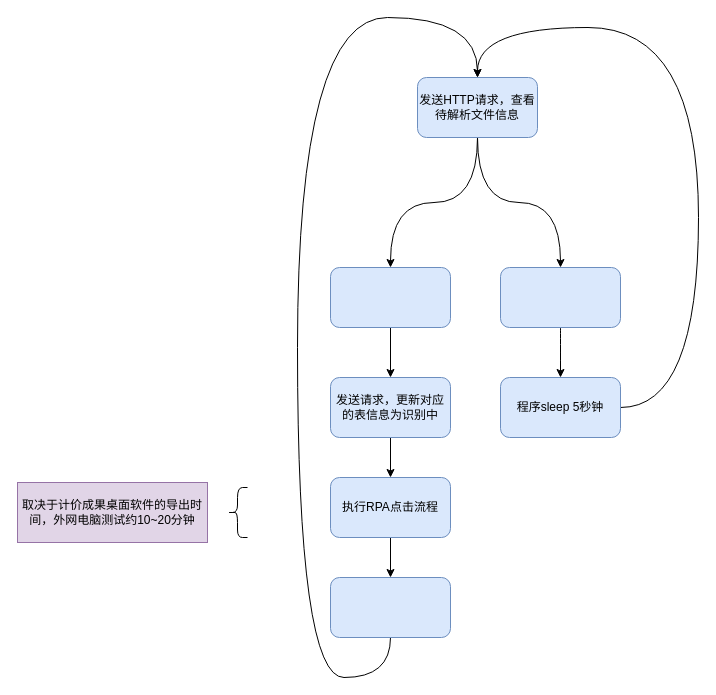
Image size: 716x695. Some labels were removed from this diagram. Each missing label, with the box of its shape:
导出完成: (330, 576, 450, 638)
查询到文件信息: (330, 266, 450, 328)
返回的值为空: (500, 266, 620, 328)
